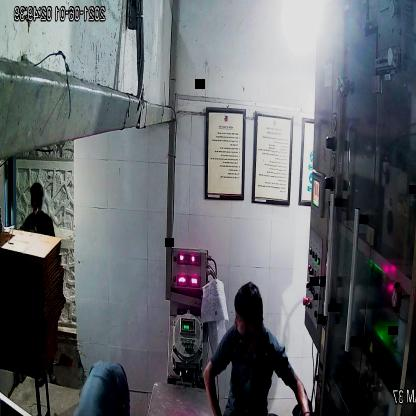no_goggles: (231, 306, 263, 333)
